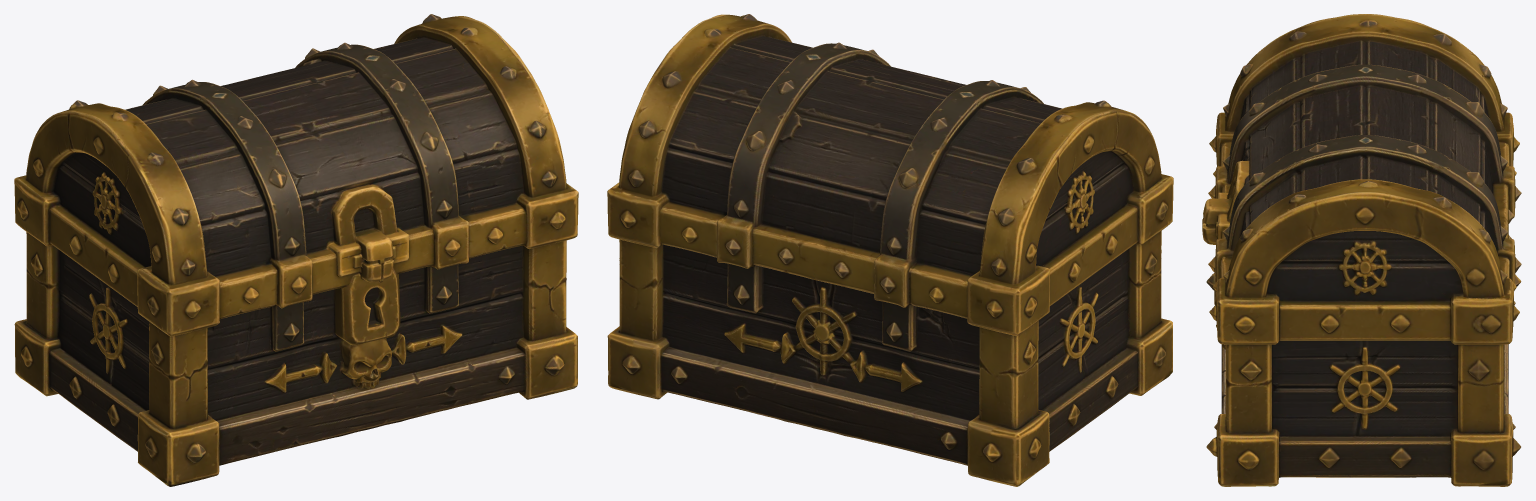
File: furniture_07.glb
3 renders of one model, left to right at view 1: azimuth 30°, elevation 25°; view 2: azimuth 150°, elevation 25°; view 3: azimuth 270°, elevation 25°, orthographic. The views are drawn at different scales.
Bounding box in the file's own units: 1.9 × 1.34 × 1.33.
Materials: 1 (1 with a texture image).
